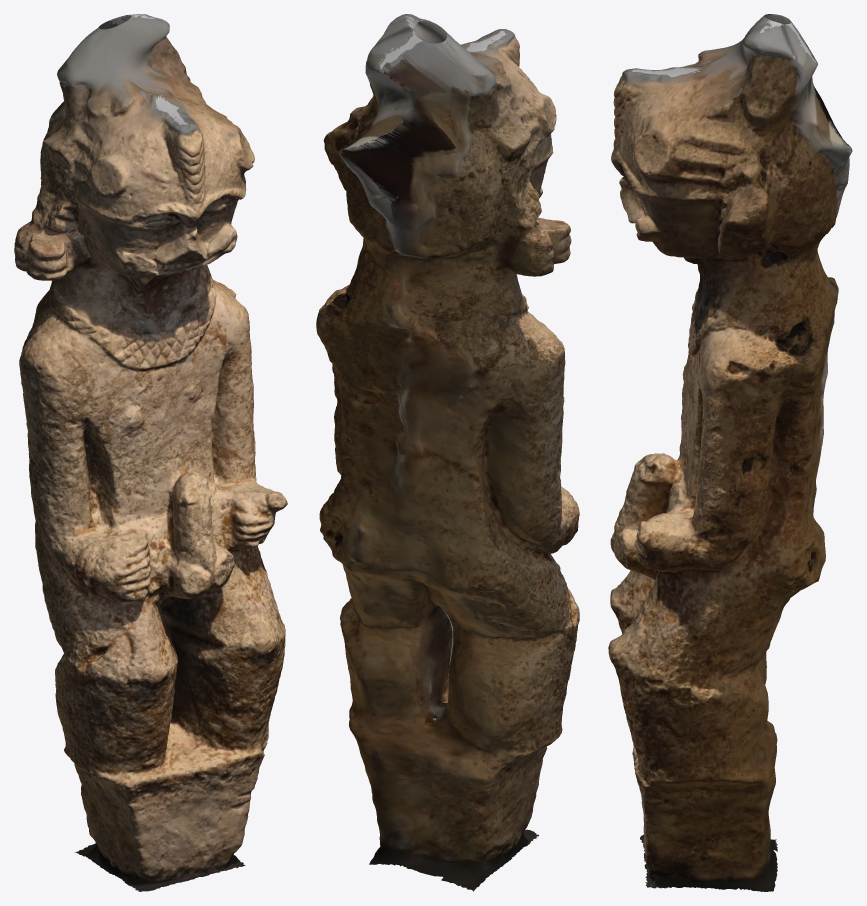
The model's file is preview.glb.
3 renders of one model, left to right at view 1: azimuth 30°, elevation 25°; view 2: azimuth 150°, elevation 25°; view 3: azimuth 270°, elevation 25°, orthographic. The views are drawn at different scales.
Visible parts, largest first — view 1: Object_3, Object_4, Object_6, Object_2; view 2: Object_6, Object_4, Object_3, Object_2, Object_5; view 3: Object_6, Object_4, Object_3, Object_2, Object_5.
Part boxes in pixels (x1,y1,x2,y2): Object_3: (14,14,277,891); Object_4: (27,18,254,865); Object_6: (14,21,287,767); Object_2: (20,14,287,641); Object_6: (318,41,579,728); Object_4: (316,14,579,891); Object_3: (334,14,574,871); Object_2: (347,14,564,717); Object_5: (367,16,506,720); Object_6: (608,15,852,735); Object_4: (611,14,838,891); Object_3: (616,14,849,887); Object_2: (626,17,846,563); Object_5: (632,19,833,130).
Bounding box in the file's own units: 13.61 × 47.67 × 12.45.
5 materials, 4 textured.
